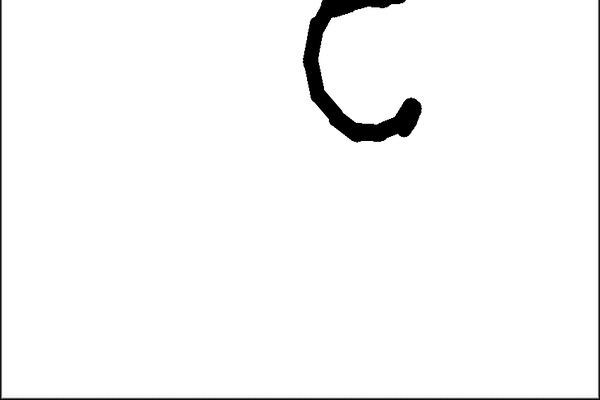C: (294, 0, 429, 145)
